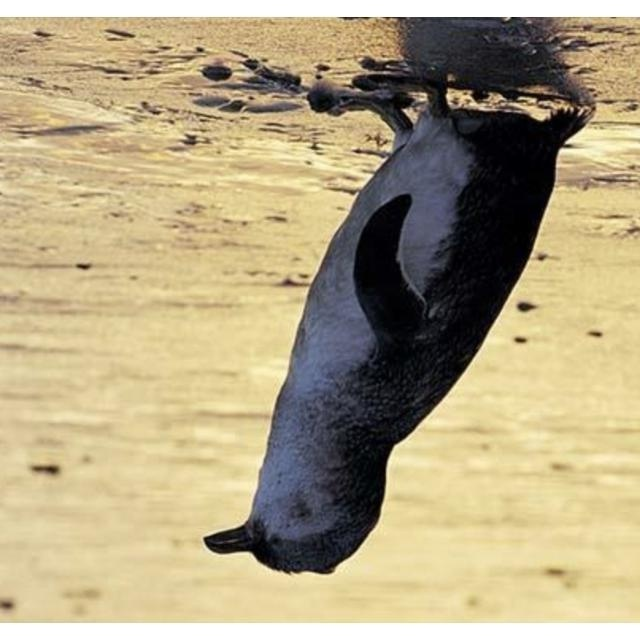penguin: (203, 70, 599, 575)
